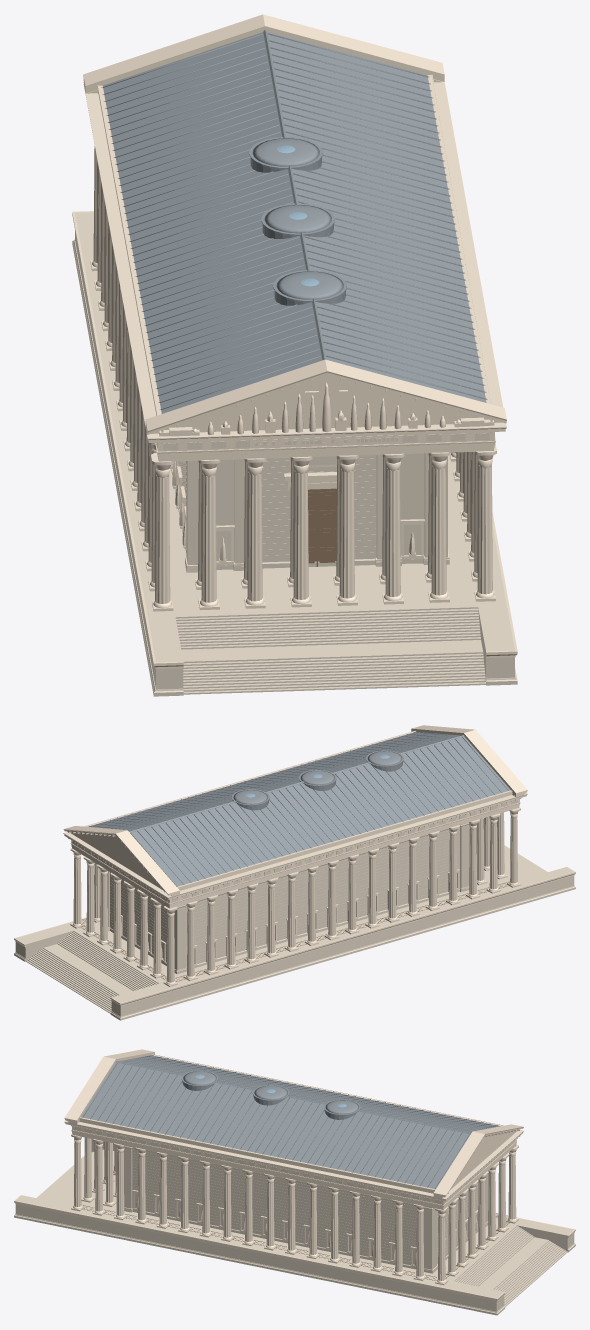
The model's file is detail.glb.
The picture shows the model from 3 angles, top to bottom: view 1: azimuth 30°, elevation 25°; view 2: azimuth 150°, elevation 25°; view 3: azimuth 270°, elevation 25°; orthographic projection. The views are drawn at different scales.
Parts seen in each view (by area): view 1: roof, trim, stone, metal; view 2: trim, stone, roof, metal; view 3: stone, trim, roof, metal.
Boxes of the visible parts, <box> form: roof: <box>101,30,487,413</box>; trim: <box>72,14,517,668</box>; stone: <box>72,212,517,696</box>; metal: <box>308,488,336,566</box>; trim: <box>14,725,575,1006</box>; stone: <box>14,799,575,1020</box>; roof: <box>88,732,510,886</box>; metal: <box>80,881,509,981</box>; stone: <box>14,1126,575,1315</box>; trim: <box>14,1049,575,1301</box>; roof: <box>81,1055,500,1189</box>; metal: <box>83,1205,509,1280</box>.
Bounding box in the file's own units: 95.48 × 36.2 × 135.
